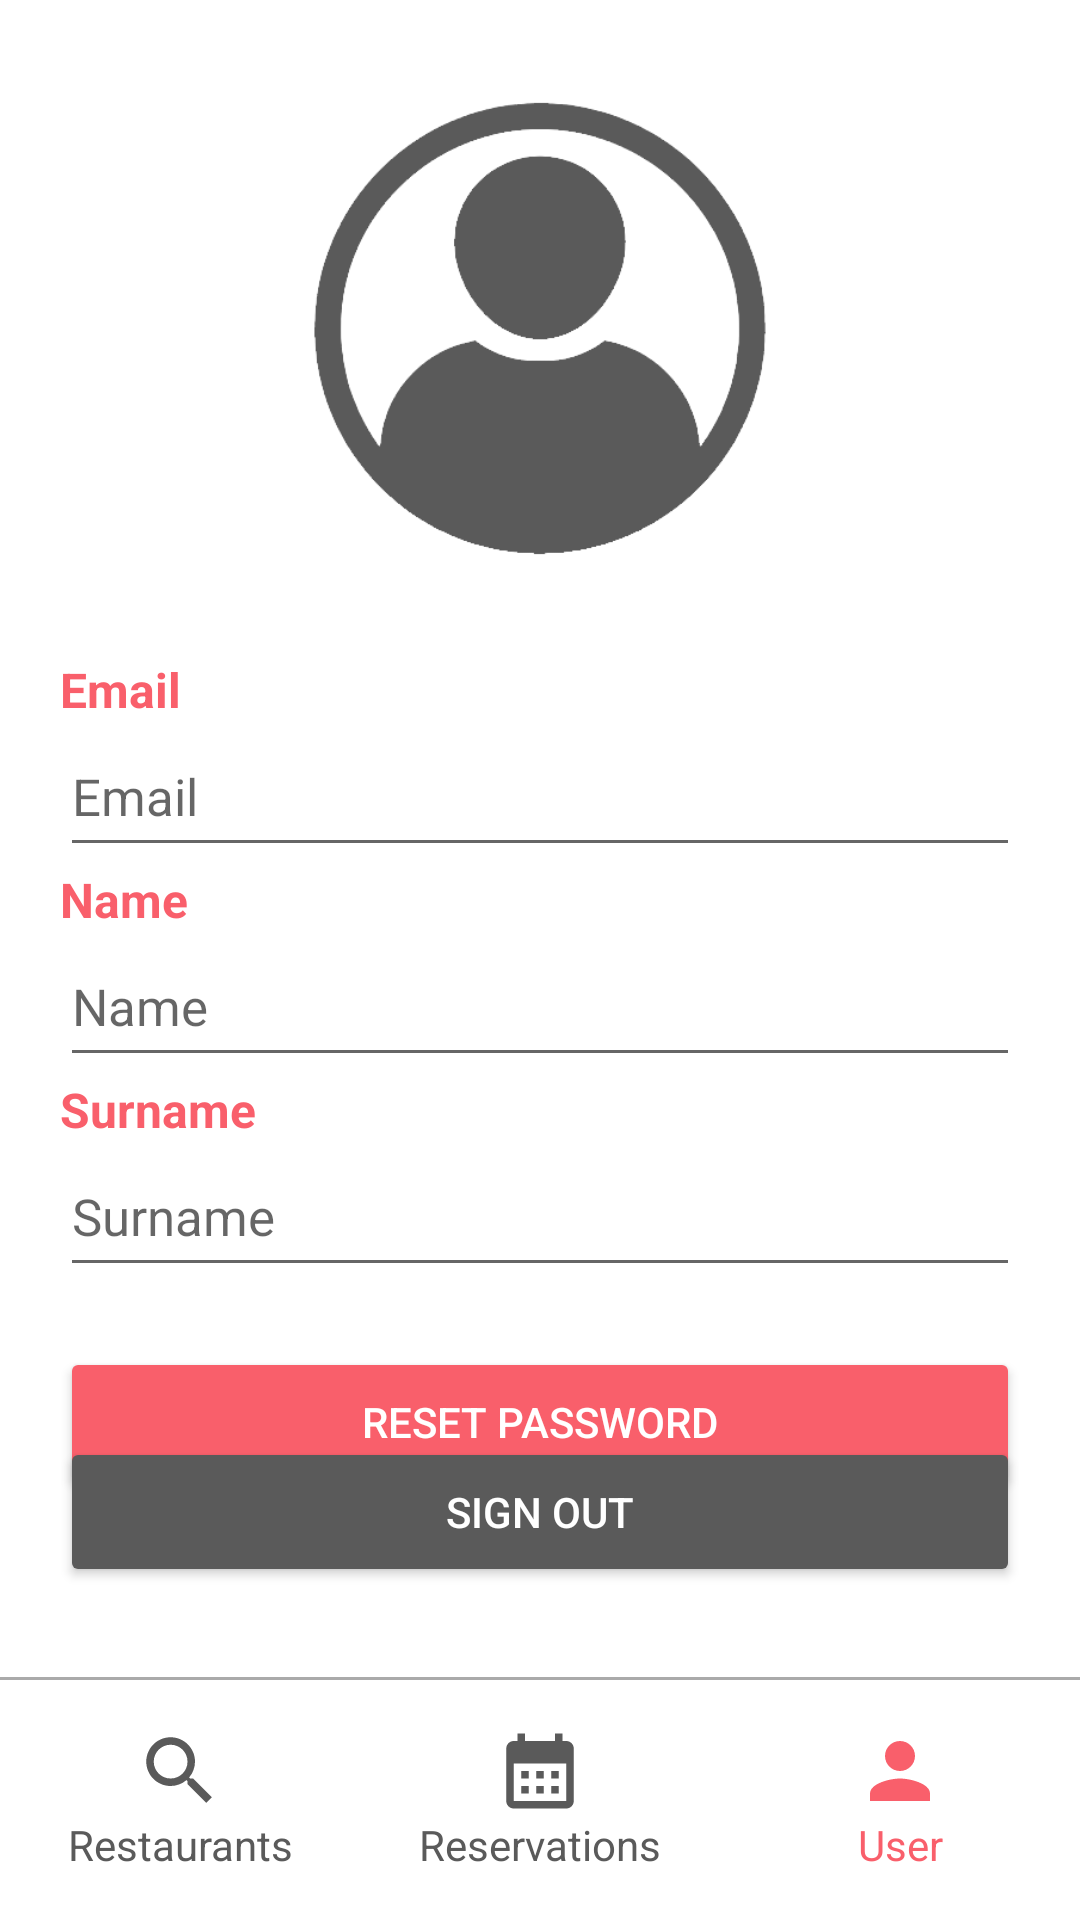

Where icons sit on this 1080 x 1920 app screen, as detection(x1, y1, x2, y2):
calendar month: detection(506, 1733, 574, 1809)
search: detection(146, 1737, 212, 1803)
